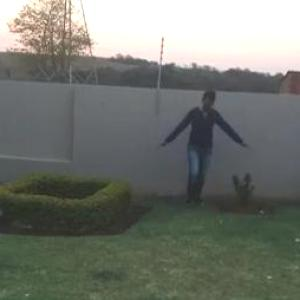land: (156, 86, 248, 215)
